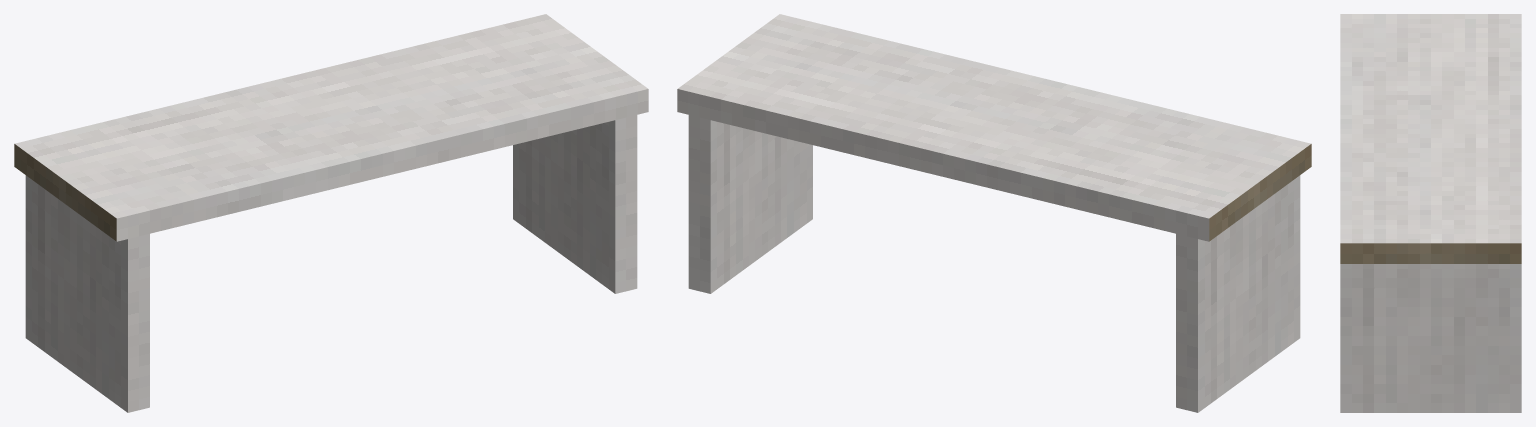
The model's file is desk_2.glb.
3 renders of one model, left to right at view 1: azimuth 30°, elevation 25°; view 2: azimuth 150°, elevation 25°; view 3: azimuth 270°, elevation 25°, orthographic. The views are drawn at different scales.
Parts seen in each view (by area): view 1: DESK 2; view 2: DESK 2; view 3: DESK 2.
Part boxes in pixels (x1,y1,x2,y2): DESK 2: (14,14,648,412); DESK 2: (677,14,1311,412); DESK 2: (1340,14,1521,412).
Size of the model in its own units: 6 by 2.12 by 2.
1 material, 1 textured.
